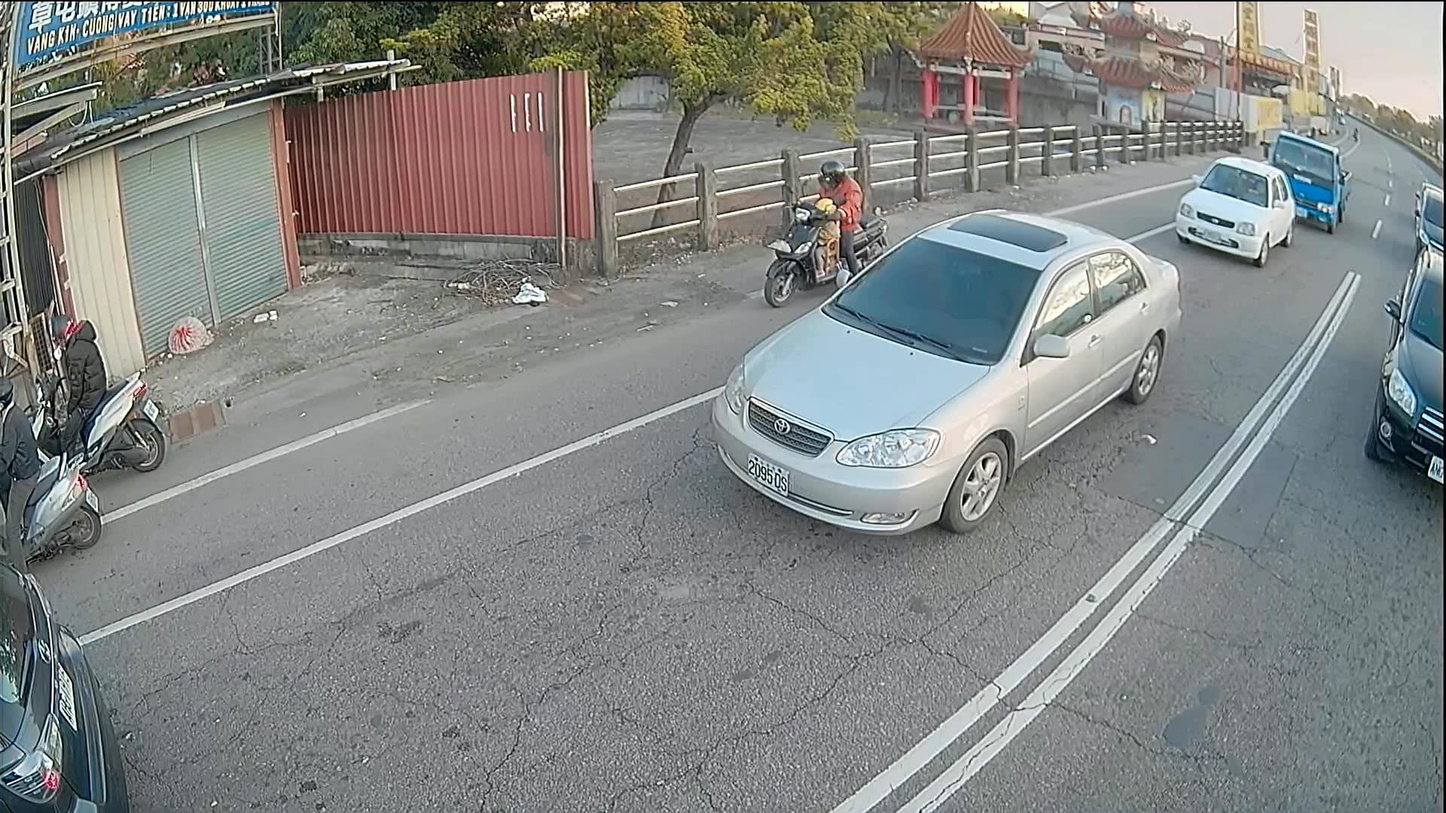person: (49, 311, 116, 464), (798, 162, 868, 278), (0, 376, 31, 570)
